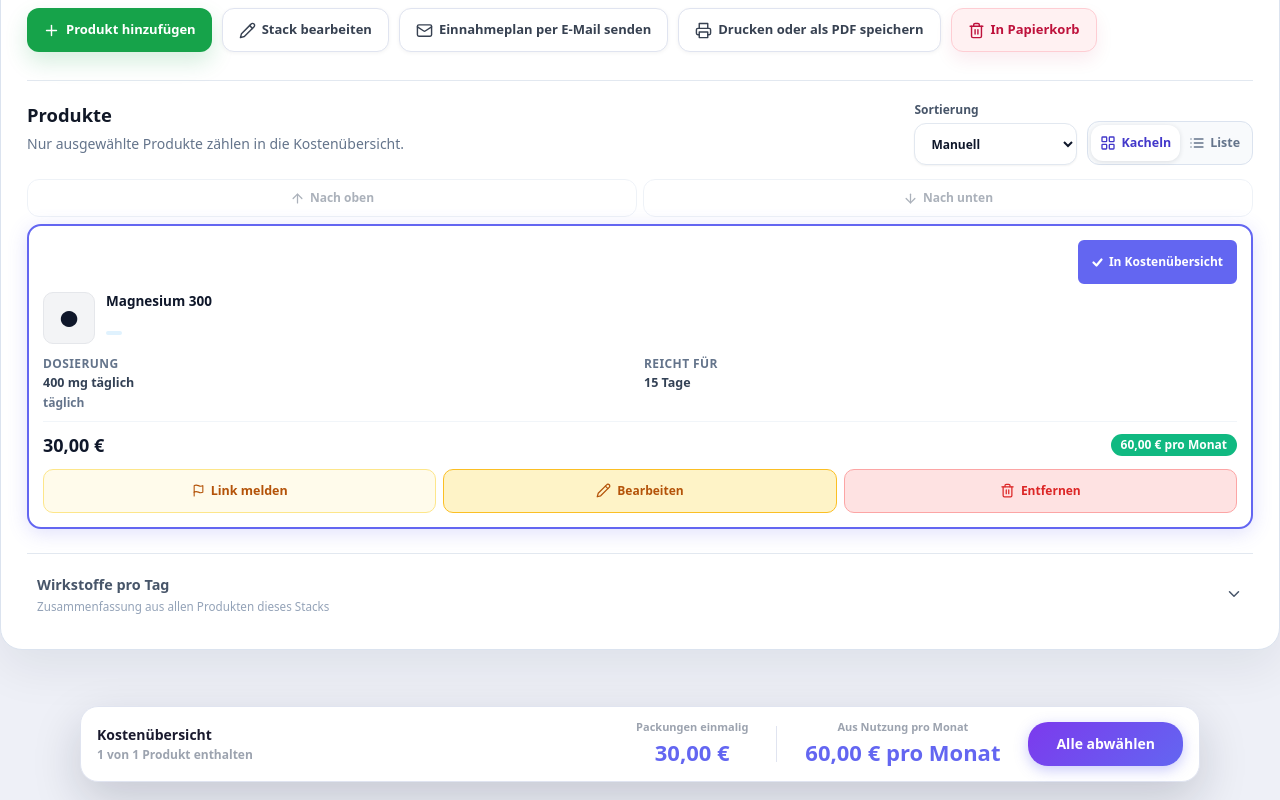
StackWorkspace dosage guideline helpers › replaces an old target dose with the edited portions and recalculates interval, reach and cost
The image size is (1280, 800).
(page scrolled)
Check: the text "400 mg täglich" is shown, box [43,374,134,391]
Click the button with aria-label "Produkt bearbeiten": click(640, 491) [443,469,837,513]
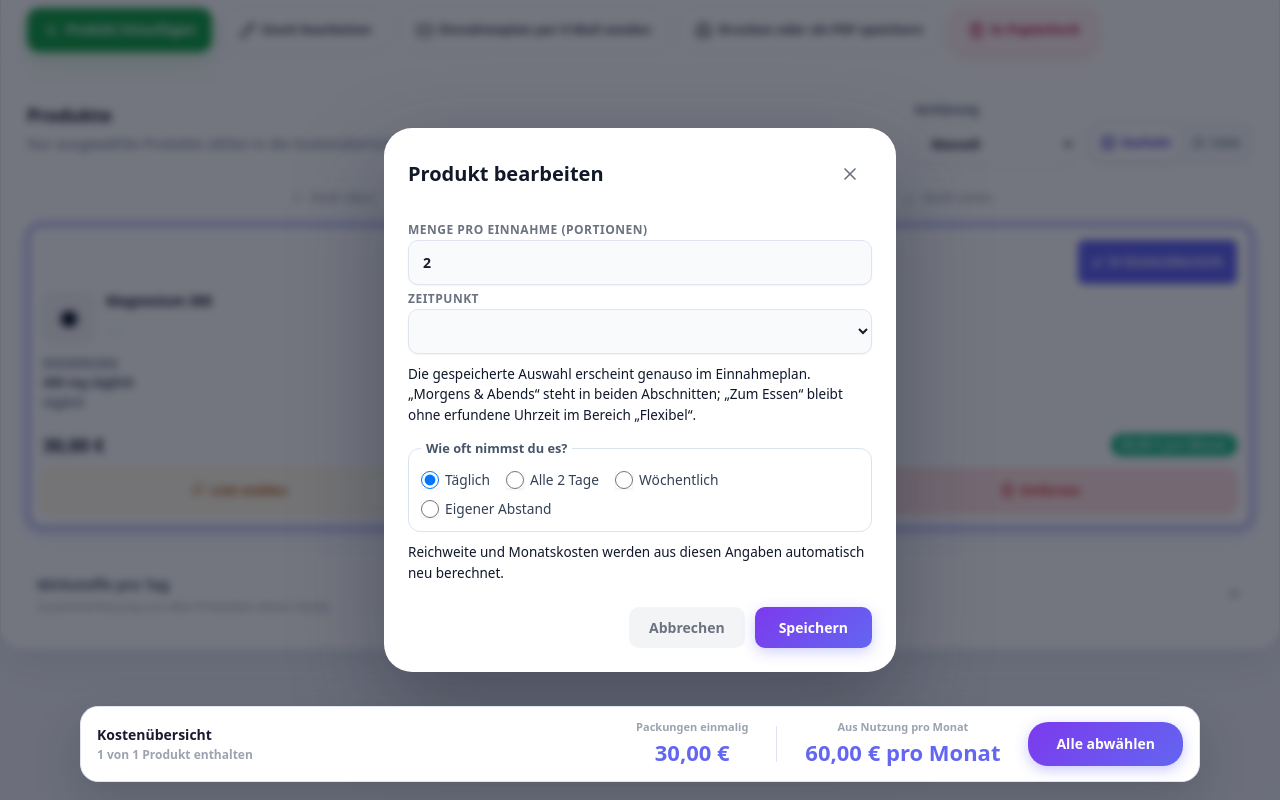
Check: the number field labelled "Menge pro Einnahme (Portionen)" holds "2"
Replace the text in the number field labelled "Menge pro Einnahme (Portionen)" with "1": (640, 263) [408,240,872,285]
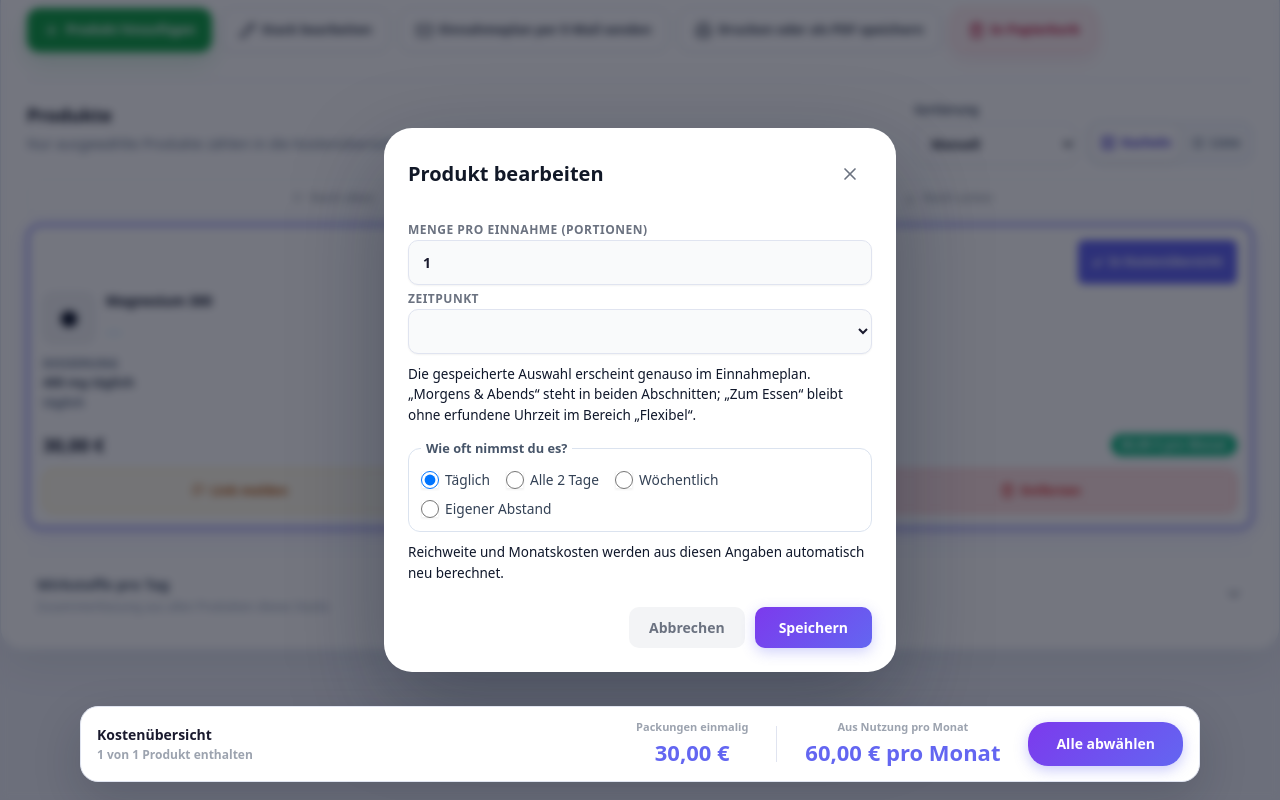
Click the radio button labelled "Eigener Abstand": click(430, 509) [421,500,439,518]
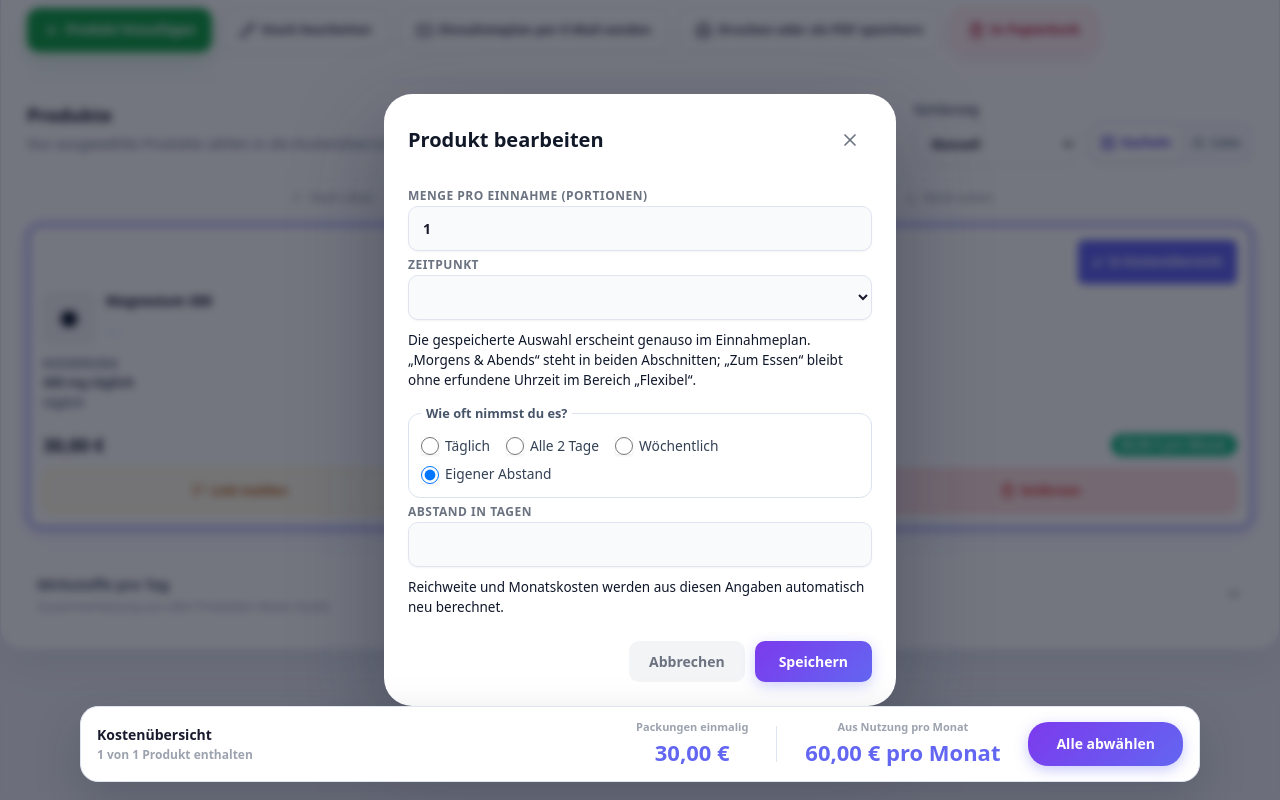
In the number field labelled "Abstand in Tagen": (640, 544) [408,522,872,567], type "2"
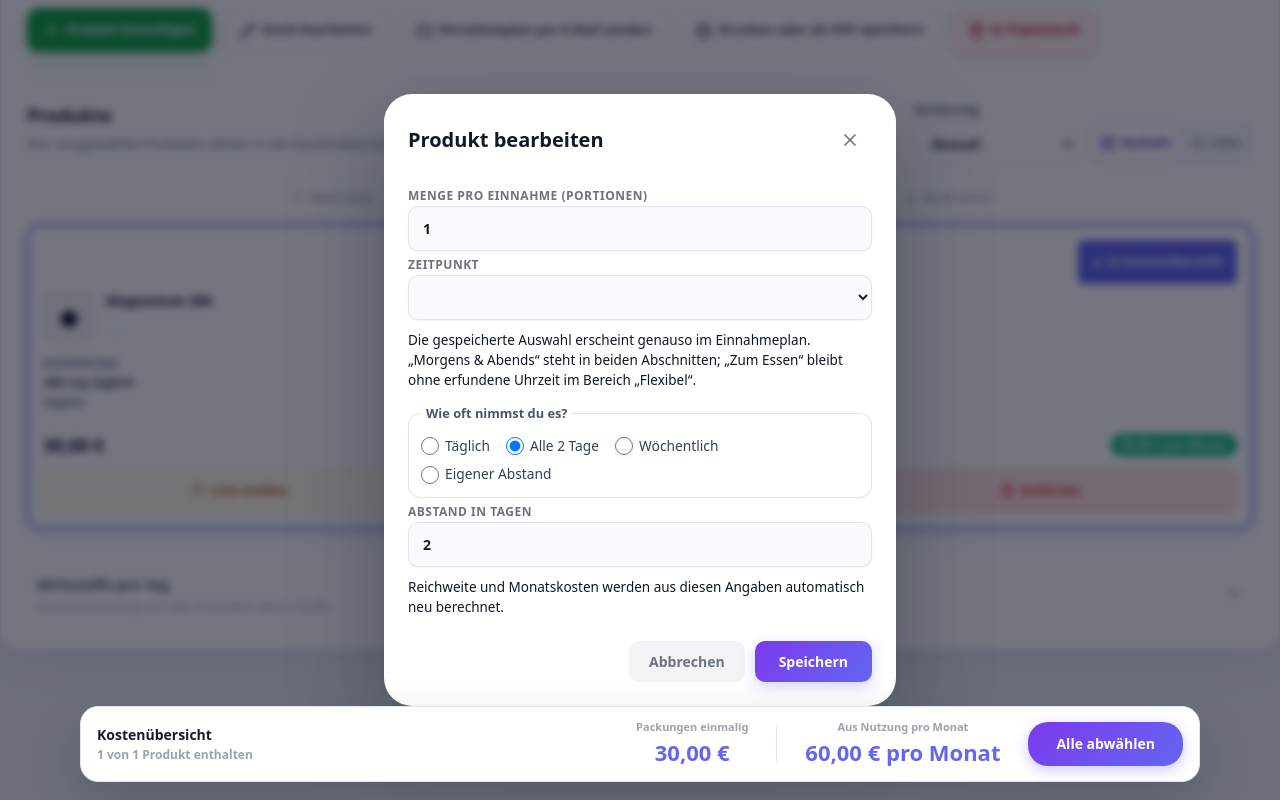
Click the button "Speichern": click(813, 662) [755,641,872,682]
(page scrolled)
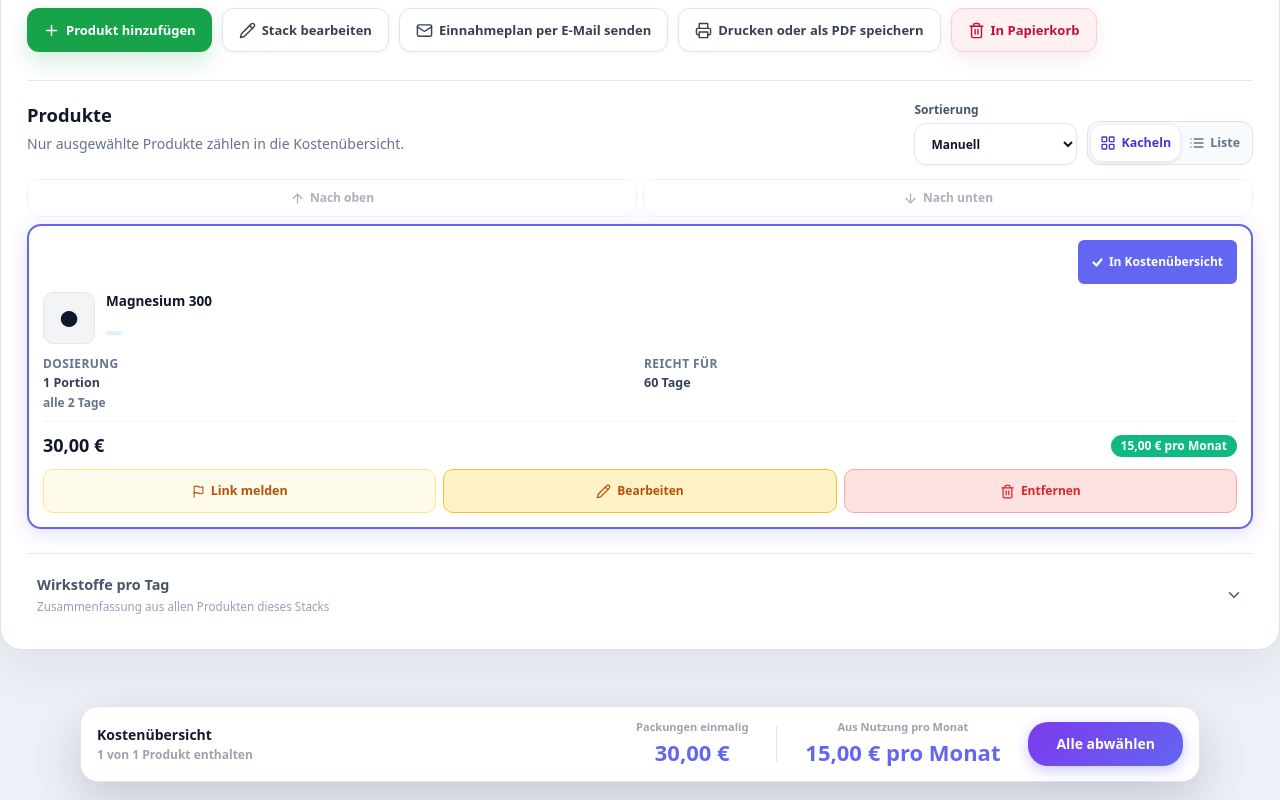
Check: the text "400 mg täglich" is gone
Check: the text "1 Portion" is shown, box [43,374,100,392]
Check: the text "60 Tage" is shown, box [644,374,691,392]
